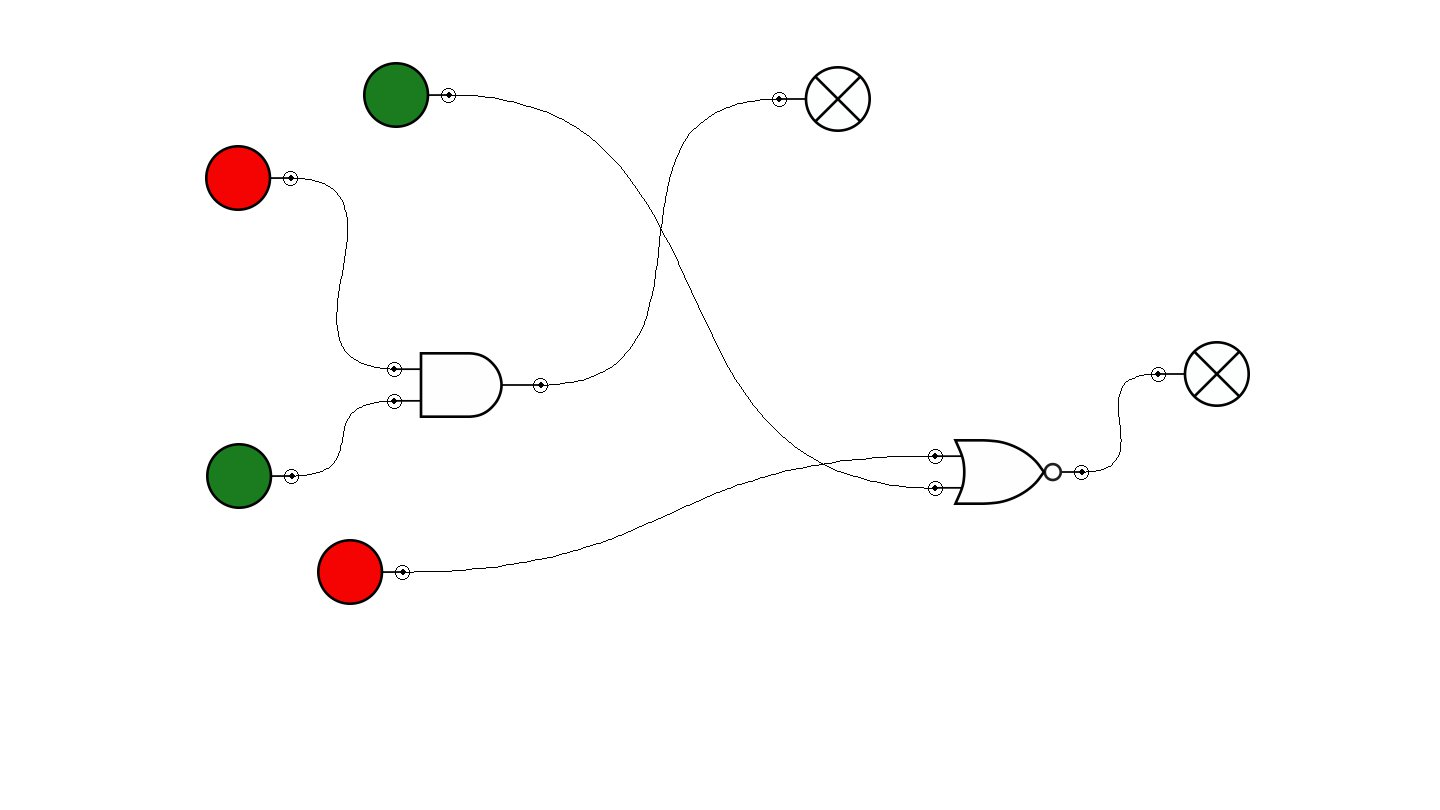and: (387, 352, 548, 418)
bulb: (1151, 341, 1250, 407), (772, 66, 871, 132)
nor: (928, 439, 1089, 505)
switch_False: (205, 145, 298, 211), (317, 539, 410, 605)
switch_True: (206, 443, 299, 509), (363, 62, 456, 128)
